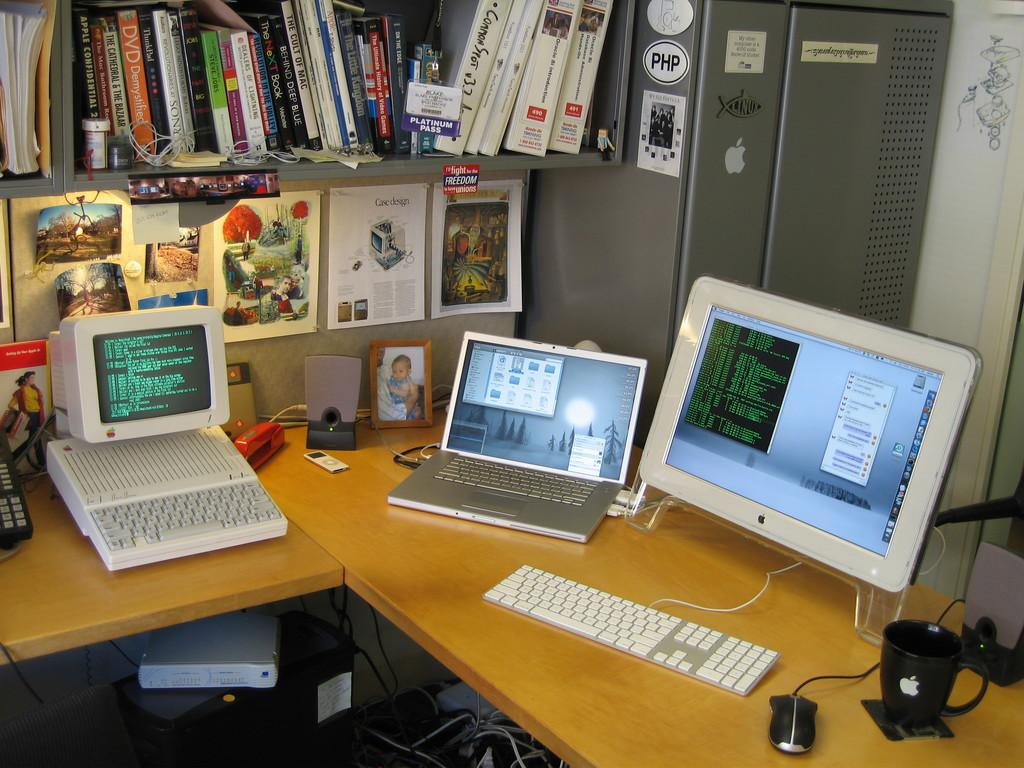Computer-keyboard: (483, 561, 800, 697), (47, 424, 288, 572), (436, 455, 596, 508)
Laptop: (384, 327, 642, 553)
